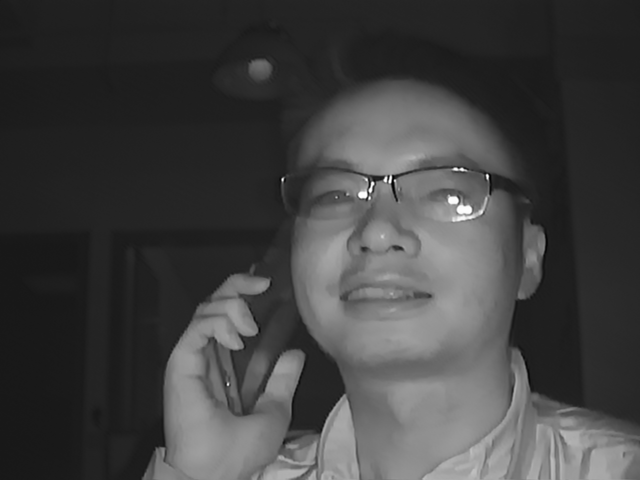hand: (159, 267, 306, 467)
